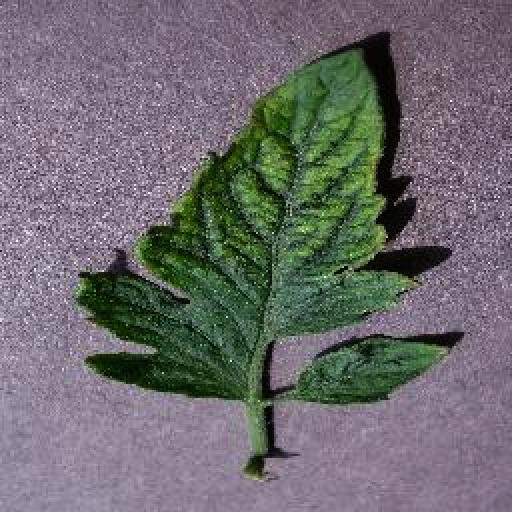Mosaic Virus: (70, 42, 450, 404)
